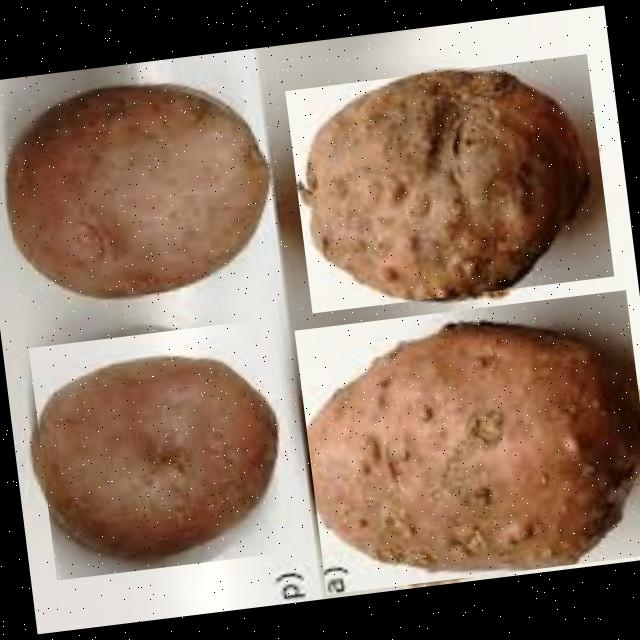Diseased-fungal potato: (293, 289, 640, 594), (284, 54, 613, 313)
Potato: (0, 69, 281, 323), (27, 318, 296, 580)
